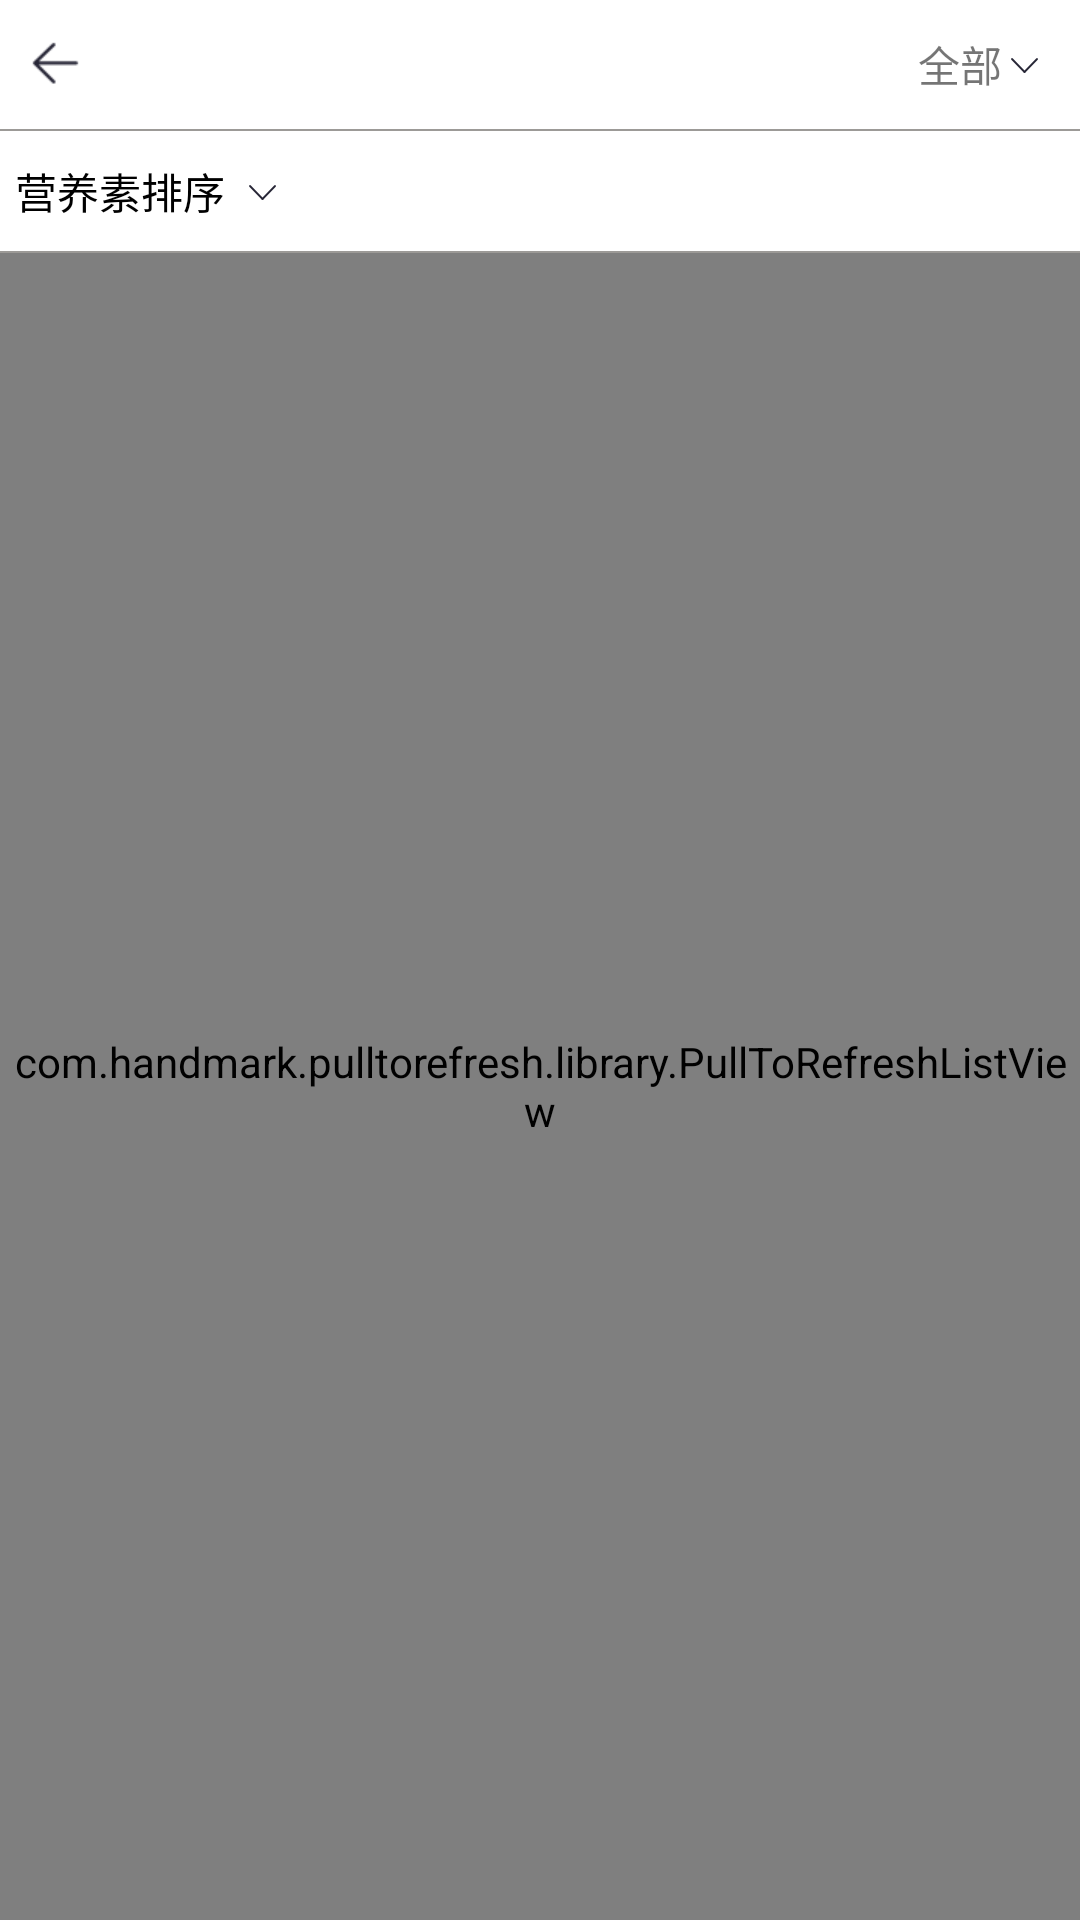

Named icons in this screenshot (1080×1920) and their bounding boxes, (x1, y1, x2, y2):
back center: (32, 42, 79, 84)
food arrow ordering: (249, 185, 276, 200)
